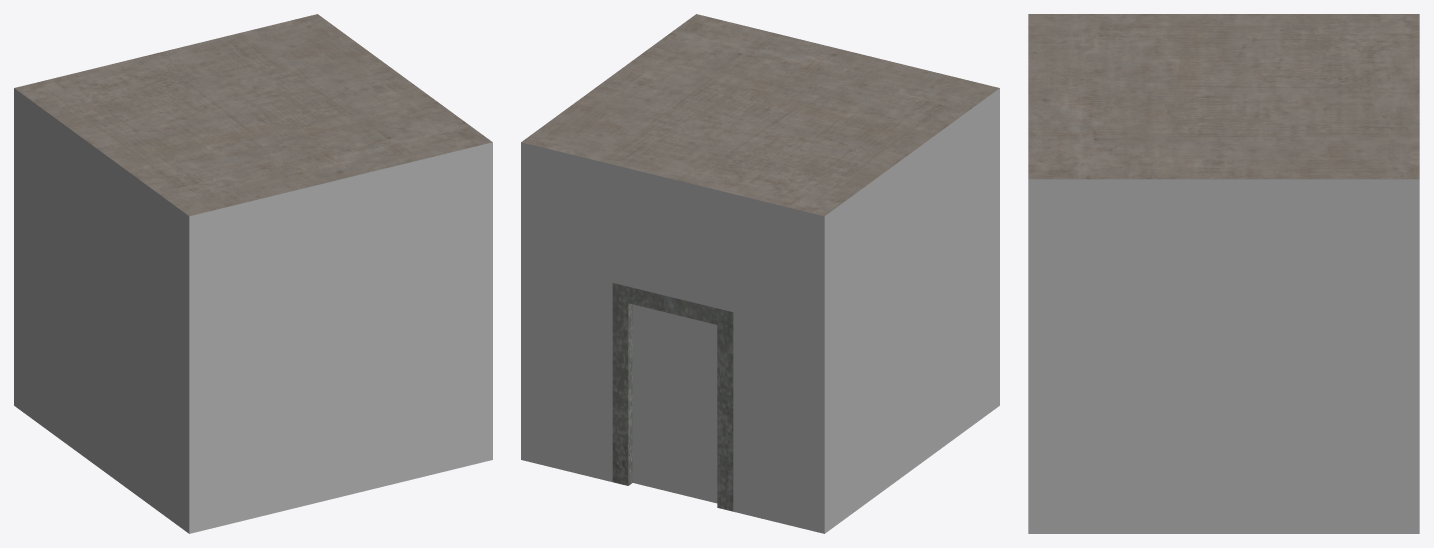
Rendered from wallA_door.fbx.
The picture shows the model from 3 angles, left to right: view 1: azimuth 30°, elevation 25°; view 2: azimuth 150°, elevation 25°; view 3: azimuth 270°, elevation 25°; orthographic projection. The views are drawn at different scales.
Visible parts, largest first — view 1: wallA_door; view 2: wallA_door; view 3: wallA_door.
Part boxes in pixels (x1,y1,x2,y2): wallA_door: (14, 14, 492, 533); wallA_door: (521, 14, 999, 533); wallA_door: (1028, 14, 1419, 533).
Size of the model in its own units: 10 by 10 by 10.
